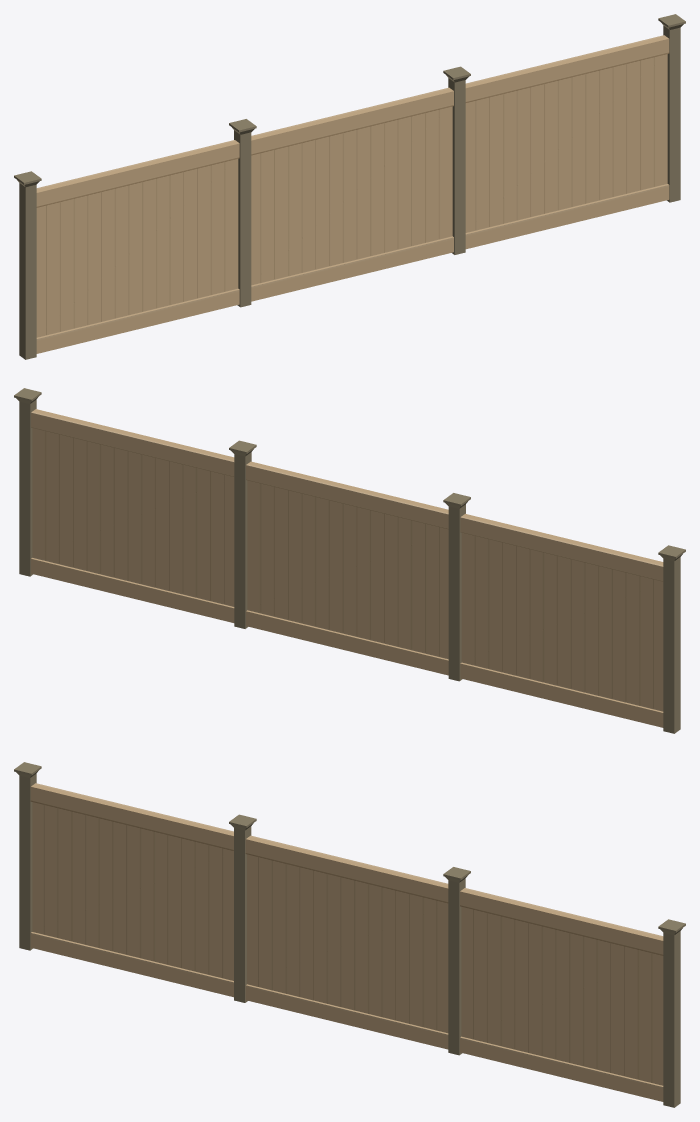
Rendered from Tan_Pvc_.fbx.
3 renders of one model, top to bottom at view 1: azimuth 30°, elevation 25°; view 2: azimuth 150°, elevation 25°; view 3: azimuth 330°, elevation 25°, orthographic.
Parts seen in each view (by area): view 1: Pvc_Panel_2, Pvc_Panel_, Pvc_Panel_1, Pvc_Joint_04, Pvc_Joint_03, Pvc_Joint_02, Pvc_Joint_01; view 2: Pvc_Panel_, Pvc_Panel_2, Pvc_Panel_1, Pvc_Joint_04, Pvc_Joint_03, Pvc_Joint_02, Pvc_Joint_01; view 3: Pvc_Panel_2, Pvc_Panel_1, Pvc_Panel_, Pvc_Joint_01, Pvc_Joint_02, Pvc_Joint_04, Pvc_Joint_03.
Part boxes in pixels (x1=…): Pvc_Panel_2: x1=465, y1=35, x2=669, y2=249; Pvc_Panel_: x1=36, y1=140, x2=239, y2=353; Pvc_Panel_1: x1=251, y1=87, x2=453, y2=301; Pvc_Joint_04: x1=14, y1=171, x2=41, y2=359; Pvc_Joint_03: x1=229, y1=119, x2=256, y2=307; Pvc_Joint_02: x1=443, y1=66, x2=470, y2=254; Pvc_Joint_01: x1=658, y1=14, x2=685, y2=202; Pvc_Panel_: x1=460, y1=513, x2=663, y2=727; Pvc_Panel_2: x1=31, y1=409, x2=234, y2=622; Pvc_Panel_1: x1=246, y1=461, x2=448, y2=675; Pvc_Joint_04: x1=658, y1=545, x2=685, y2=733; Pvc_Joint_03: x1=443, y1=493, x2=470, y2=681; Pvc_Joint_02: x1=229, y1=440, x2=256, y2=628; Pvc_Joint_01: x1=14, y1=388, x2=41, y2=576; Pvc_Panel_2: x1=460, y1=888, x2=663, y2=1101; Pvc_Panel_1: x1=245, y1=835, x2=448, y2=1049; Pvc_Panel_: x1=30, y1=783, x2=233, y2=997; Pvc_Joint_01: x1=658, y1=919, x2=685, y2=1107; Pvc_Joint_02: x1=443, y1=867, x2=470, y2=1055; Pvc_Joint_04: x1=14, y1=762, x2=41, y2=950; Pvc_Joint_03: x1=229, y1=814, x2=256, y2=1002.
Size of the model in its own units: 765 by 198 by 20.3.
2 materials, 1 textured.
